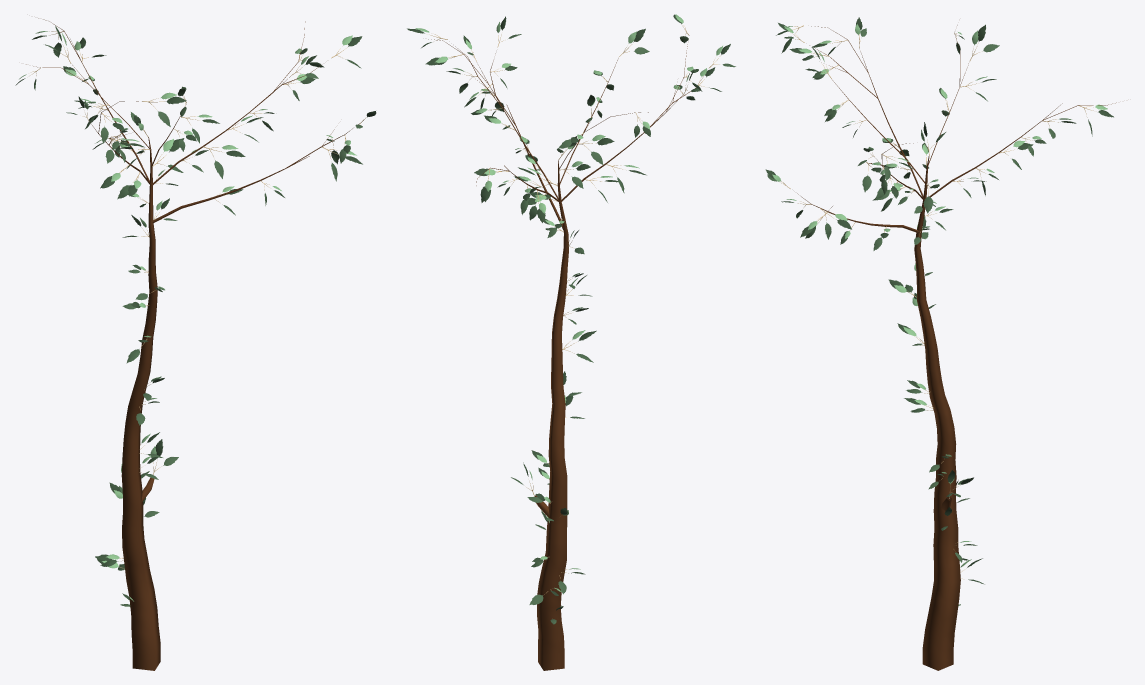
File: Tree29.fbx
3 views of the same model, side by side, from view 1: azimuth 30°, elevation 25°; view 2: azimuth 150°, elevation 25°; view 3: azimuth 270°, elevation 25° (orthographic). The views are drawn at different scales.
Visible parts, largest first — view 1: Árbol.002; view 2: Árbol.002; view 3: Árbol.002.
Part boxes in pixels (bbox=[...]): Árbol.002: bbox=[26, 18, 352, 670]; Árbol.002: bbox=[428, 39, 703, 670]; Árbol.002: bbox=[797, 25, 1116, 670].
Size of the model in its own units: 608 by 1222 by 661.
